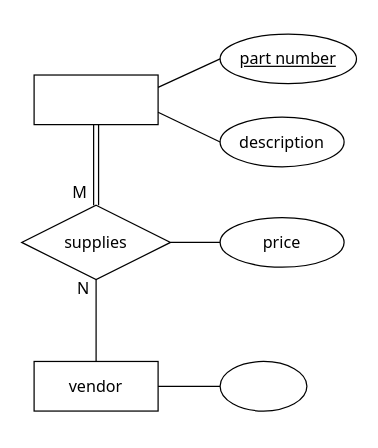
The diagram is 378 pixels wide and 448 high, and some of its shapes have lost their labels. The centre of each missing label's shape, as x and y in pixels:
"name" belongs at (x=263, y=385).
"part" belongs at (x=95, y=99).
